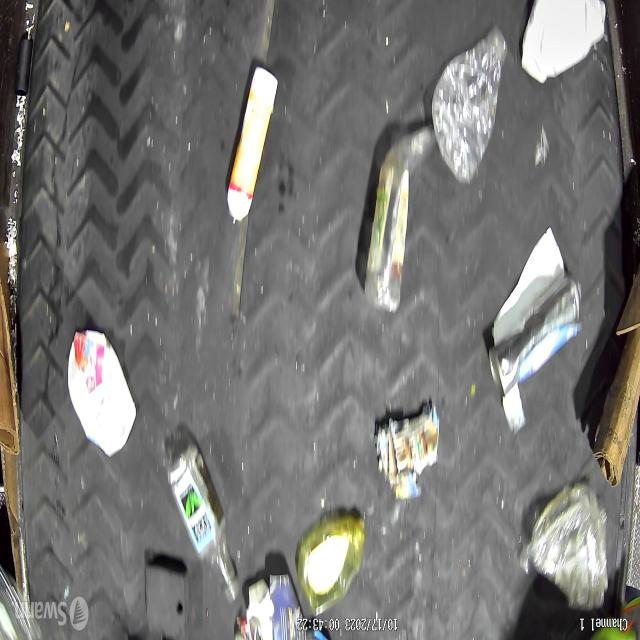can: (488, 276, 582, 398)
non_white_jug: (67, 329, 135, 457)
plastic_bottle: (367, 124, 435, 311), (168, 444, 240, 606), (432, 28, 505, 184)
